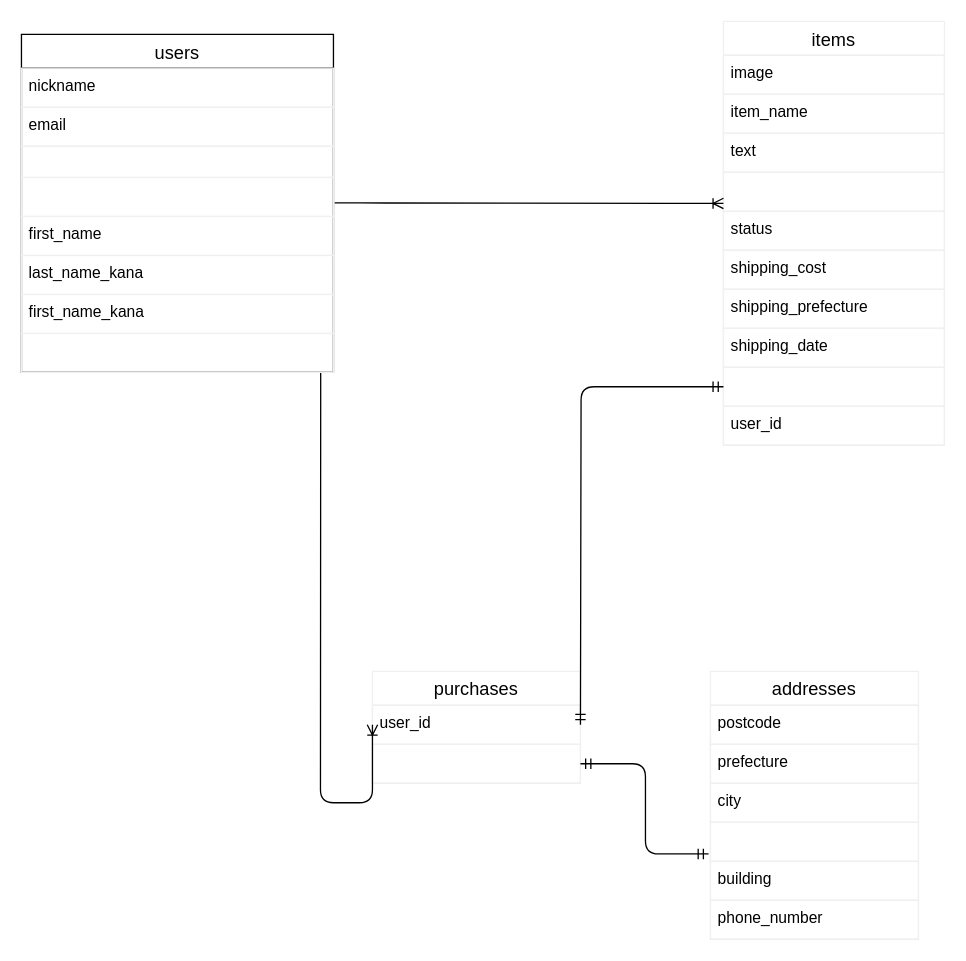
Some shapes in this 966 by 961 pixel diagram are drawn without their labels. The centre of each missing label's shape, as x and y in pixels:
birth_date: the point at 176,352
block: the point at 813,841
category: the point at 833,191
item_id: the point at 475,763
last_name: the point at 176,196
password: the point at 176,161
price: the point at 833,386
